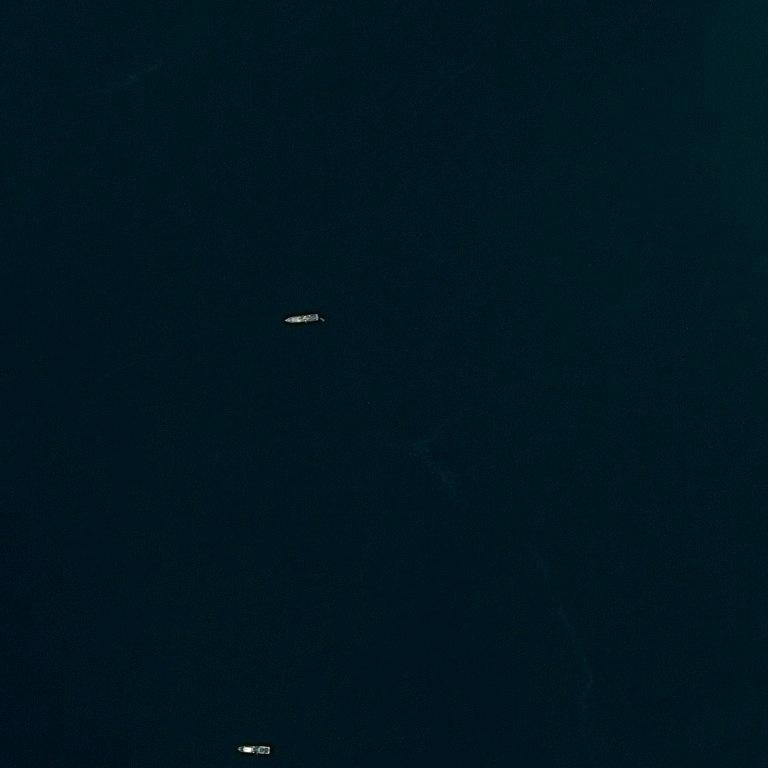ship: (284, 309, 320, 312), (236, 748, 271, 751), (237, 747, 240, 751), (285, 318, 287, 322), (38, 746, 40, 748), (269, 751, 270, 754), (315, 315, 317, 315), (318, 318, 318, 321)
